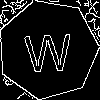W: (23, 24, 73, 73)
